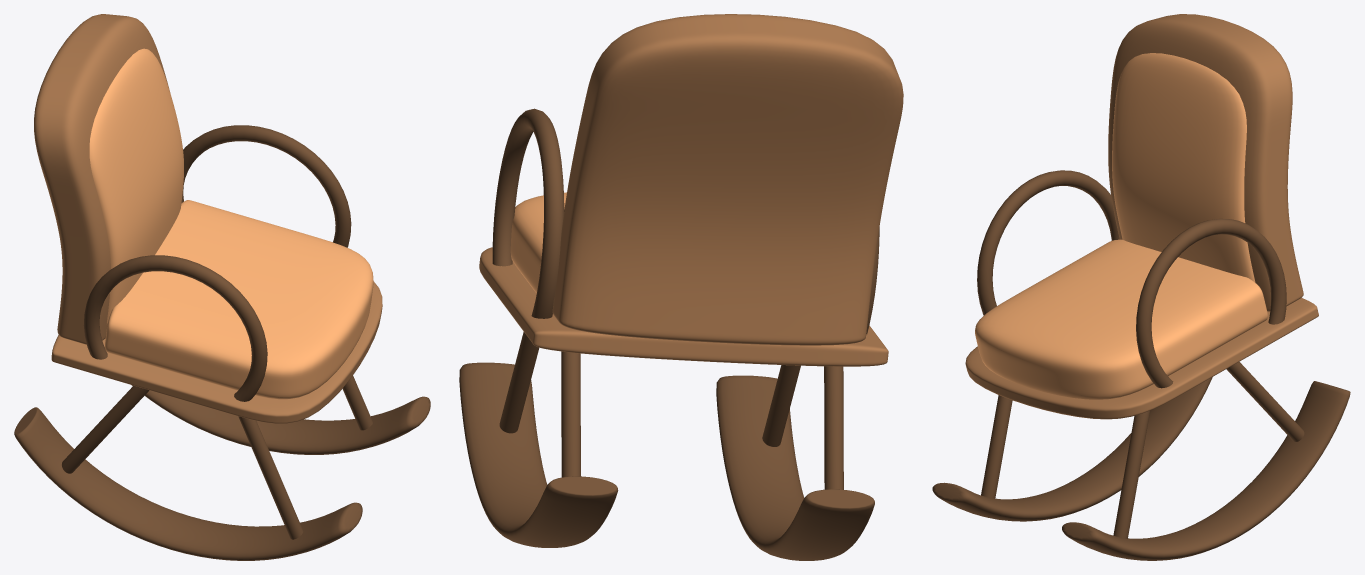
The model's file is Roocking Chair.fbx.
3 renders of one model, left to right at view 1: azimuth 30°, elevation 25°; view 2: azimuth 150°, elevation 25°; view 3: azimuth 270°, elevation 25°, orthographic. The views are drawn at different scales.
Parts seen in each view (by area): view 1: Cube.131, Cube.133, Cube.134, Torus.010, Cube.132, Torus.007, Torus.008, Torus.006, Cylinder.033, Cylinder.032, Cylinder.035; view 2: Cube.133, Torus.010, Torus.007, Cube.132, Torus.006, Cylinder.034, Cylinder.032, Cube.131, Cylinder.035, Cylinder.033; view 3: Cube.131, Cube.134, Cube.133, Torus.007, Torus.010, Cube.132, Torus.006, Torus.008, Cylinder.035, Cylinder.033, Cylinder.034.
Boxes of the visible parts, bbox=[...] form: Cube.131: bbox=[104, 200, 373, 399]; Cube.133: bbox=[34, 14, 169, 344]; Cube.134: bbox=[89, 48, 183, 324]; Torus.010: bbox=[14, 407, 362, 560]; Cube.132: bbox=[51, 281, 382, 423]; Torus.007: bbox=[131, 385, 430, 454]; Torus.008: bbox=[83, 255, 267, 401]; Torus.006: bbox=[181, 125, 351, 247]; Cylinder.033: bbox=[238, 416, 303, 539]; Cylinder.032: bbox=[62, 385, 149, 473]; Cylinder.035: bbox=[342, 376, 372, 430]; Cube.133: bbox=[552, 14, 903, 345]; Torus.010: bbox=[716, 375, 874, 560]; Torus.007: bbox=[459, 362, 618, 547]; Cube.132: bbox=[479, 247, 888, 366]; Torus.006: bbox=[492, 108, 564, 318]; Cylinder.034: bbox=[561, 351, 580, 477]; Cylinder.032: bbox=[824, 366, 843, 489]; Cube.131: bbox=[510, 192, 566, 293]; Cylinder.035: bbox=[499, 332, 539, 433]; Cylinder.033: bbox=[762, 365, 800, 446]; Cube.131: bbox=[975, 239, 1267, 399]; Cube.134: bbox=[1112, 53, 1255, 282]; Cube.133: bbox=[1108, 14, 1303, 311]; Torus.007: bbox=[1062, 381, 1350, 560]; Torus.010: bbox=[932, 377, 1212, 521]; Cube.132: bbox=[965, 297, 1318, 419]; Torus.006: bbox=[1136, 218, 1286, 388]; Torus.008: bbox=[977, 170, 1119, 315]; Cylinder.035: bbox=[1113, 410, 1150, 538]; Cylinder.033: bbox=[981, 395, 1012, 498]; Cylinder.034: bbox=[1226, 361, 1304, 441].
Bounding box in the file's own units: 461 × 561 × 461.
